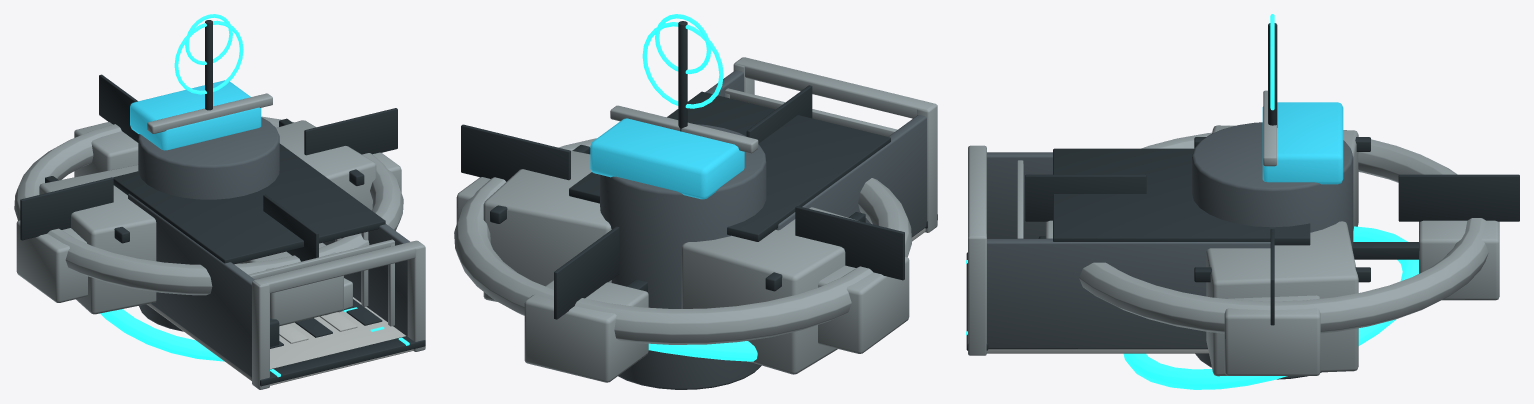
The model's file is outpost.glb.
3 renders of one model, left to right at view 1: azimuth 30°, elevation 25°; view 2: azimuth 150°, elevation 25°; view 3: azimuth 270°, elevation 25°, orthographic. The views are drawn at different scales.
Visible parts, largest first — view 1: Outpost_ArmorGeometry, Outpost_DarkGeometry, Outpost_HullGeometry, Outpost_GlassGeometry, Outpost_InteriorGeometry, Outpost_GuidanceGeometry; view 2: Outpost_ArmorGeometry, Outpost_DarkGeometry, Outpost_HullGeometry, Outpost_GlassGeometry, Outpost_GuidanceGeometry; view 3: Outpost_ArmorGeometry, Outpost_HullGeometry, Outpost_DarkGeometry, Outpost_GlassGeometry, Outpost_GuidanceGeometry, Outpost_InteriorGeometry.
Part boxes in pixels (x1=…): Outpost_ArmorGeometry: x1=14, y1=93, x2=425, y2=389; Outpost_DarkGeometry: x1=20, y1=20, x2=425, y2=386; Outpost_HullGeometry: x1=128, y1=117, x2=410, y2=377; Outpost_GlassGeometry: x1=130, y1=80, x2=261, y2=150; Outpost_InteriorGeometry: x1=147, y1=297, x2=413, y2=385; Outpost_GuidanceGeometry: x1=100, y1=14, x2=409, y2=377; Outpost_ArmorGeometry: x1=454, y1=57, x2=937, y2=382; Outpost_DarkGeometry: x1=461, y1=21, x2=937, y2=319; Outpost_HullGeometry: x1=600, y1=70, x2=926, y2=389; Outpost_GlassGeometry: x1=590, y1=118, x2=744, y2=199; Outpost_GuidanceGeometry: x1=642, y1=14, x2=757, y2=361; Outpost_ArmorGeometry: x1=968, y1=90, x2=1499, y2=376; Outpost_HullGeometry: x1=987, y1=122, x2=1353, y2=379; Outpost_DarkGeometry: x1=966, y1=23, x2=1519, y2=350; Outpost_GlassGeometry: x1=1262, y1=102, x2=1343, y2=184; Outpost_GuidanceGeometry: x1=966, y1=14, x2=1418, y2=389; Outpost_InteriorGeometry: x1=987, y1=349, x2=1208, y2=353.
Bounding box in the file's own units: 19.6 × 14.75 × 21.95.
